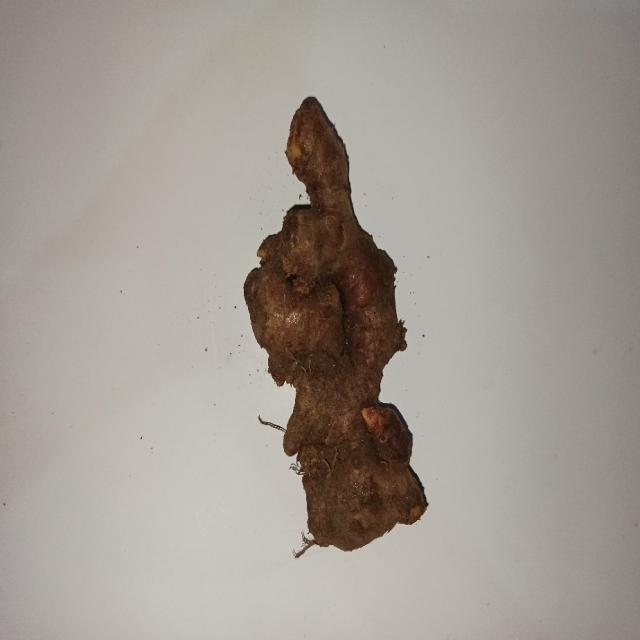ginger: (256, 107, 428, 547)
